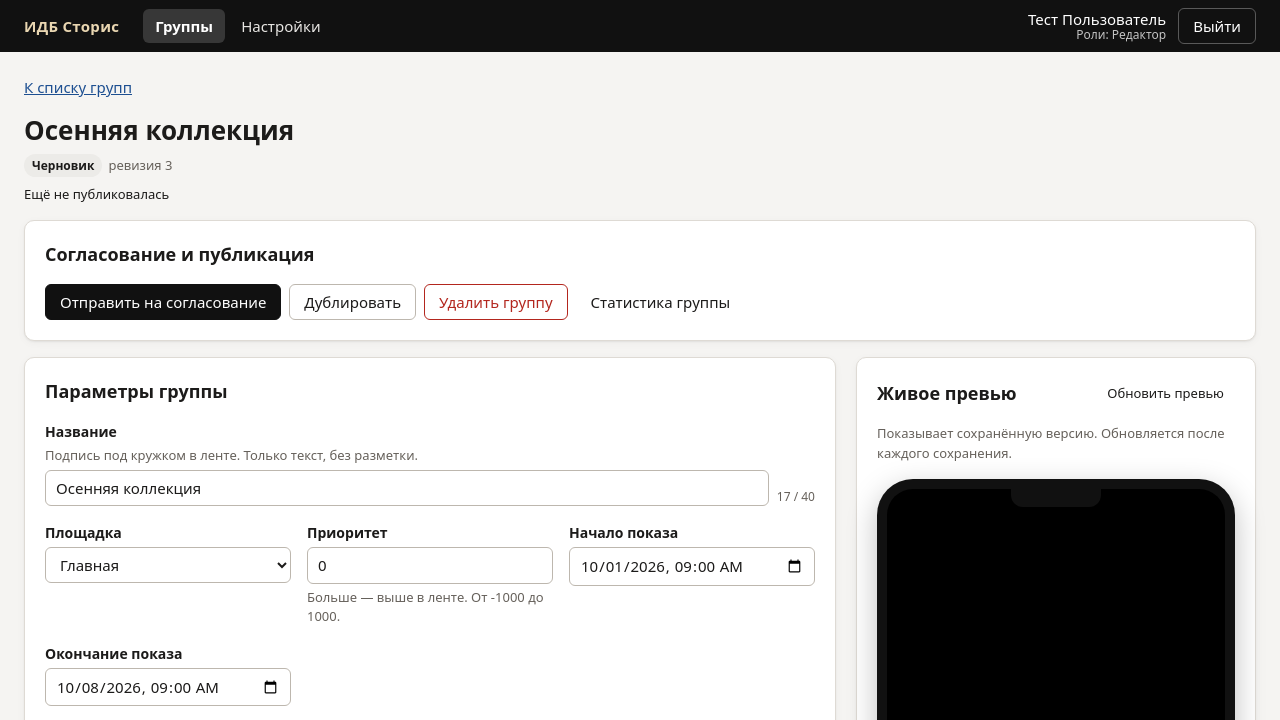
Test case: Редактор группы › конфликт ревизий предлагает загрузить актуальную версию
Type "!" into the field labelled "Название".
click(407, 488); type("!")  # box [45,470,769,506]
(page scrolled)
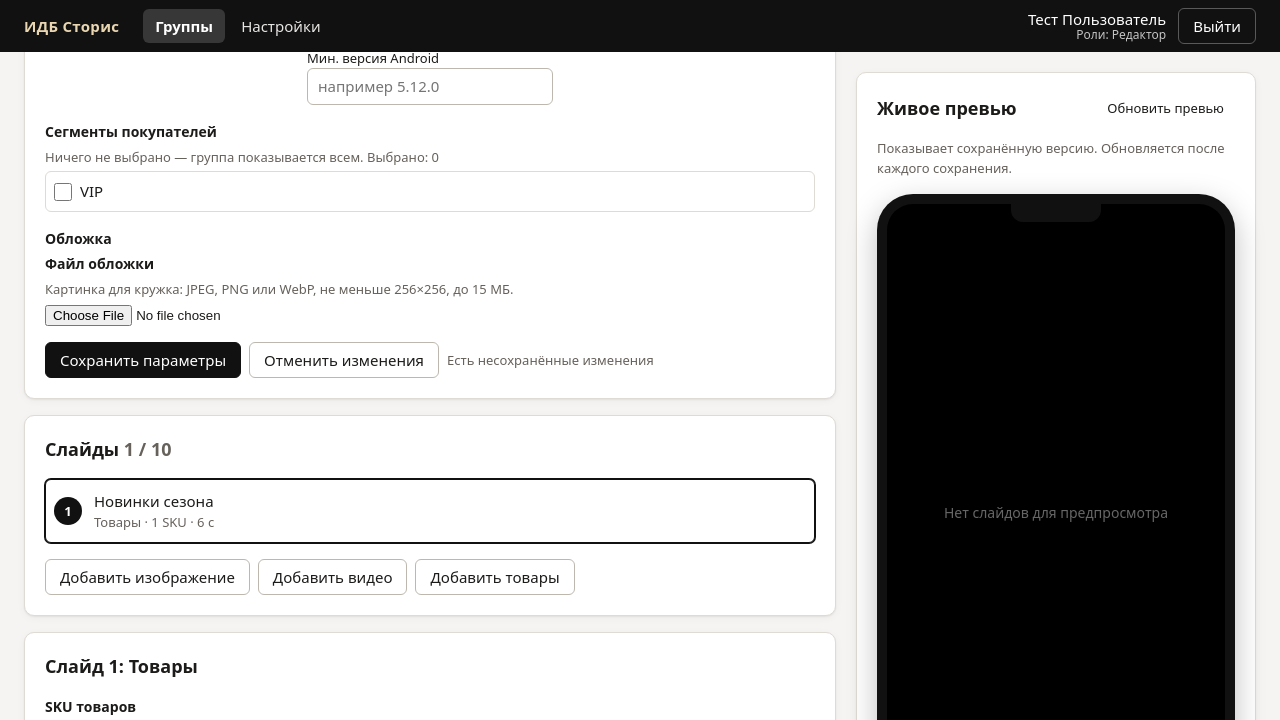
Click the button "Сохранить параметры".
click(143, 360)  # box [45,342,241,378]
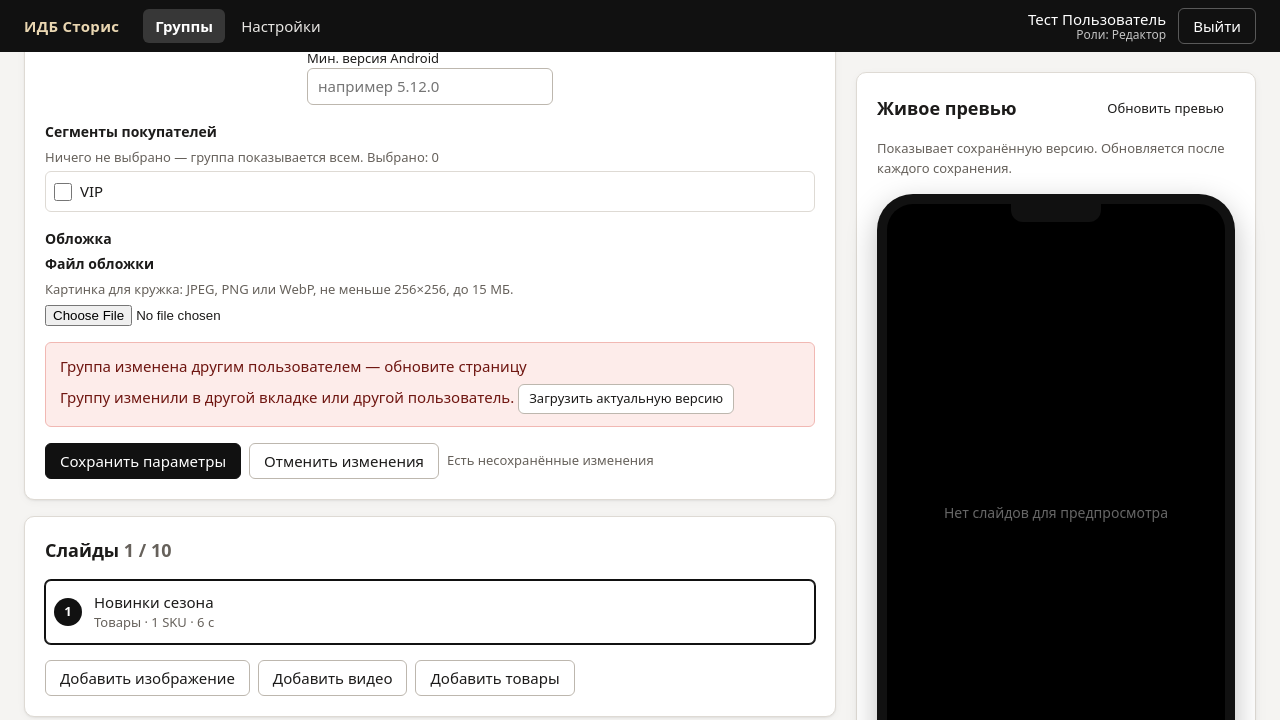
Check: the text "Группа изменена другим пользователем — обновите страницу" is shown, box [60,356,527,376]
Check: the button "Загрузить актуальную версию" is shown, box [518,384,734,414]
